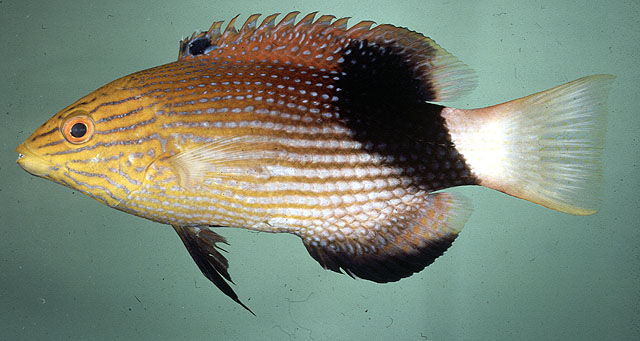fish: (16, 12, 616, 319)
